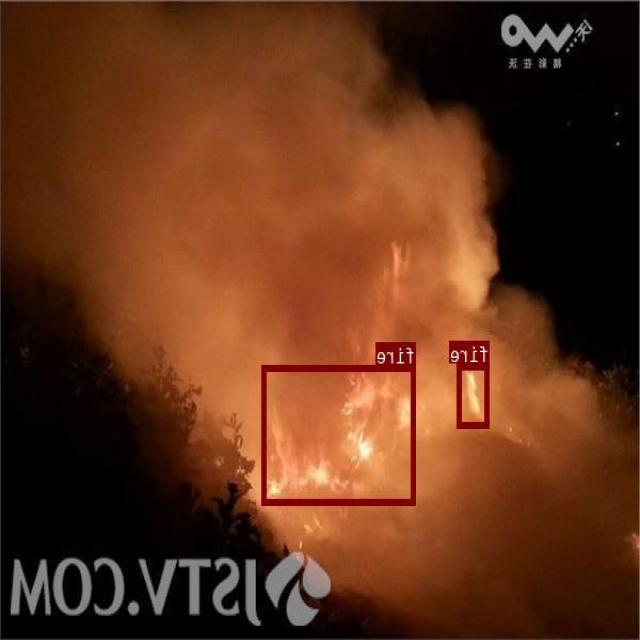fire: (264, 364, 417, 504), (458, 362, 490, 427)
